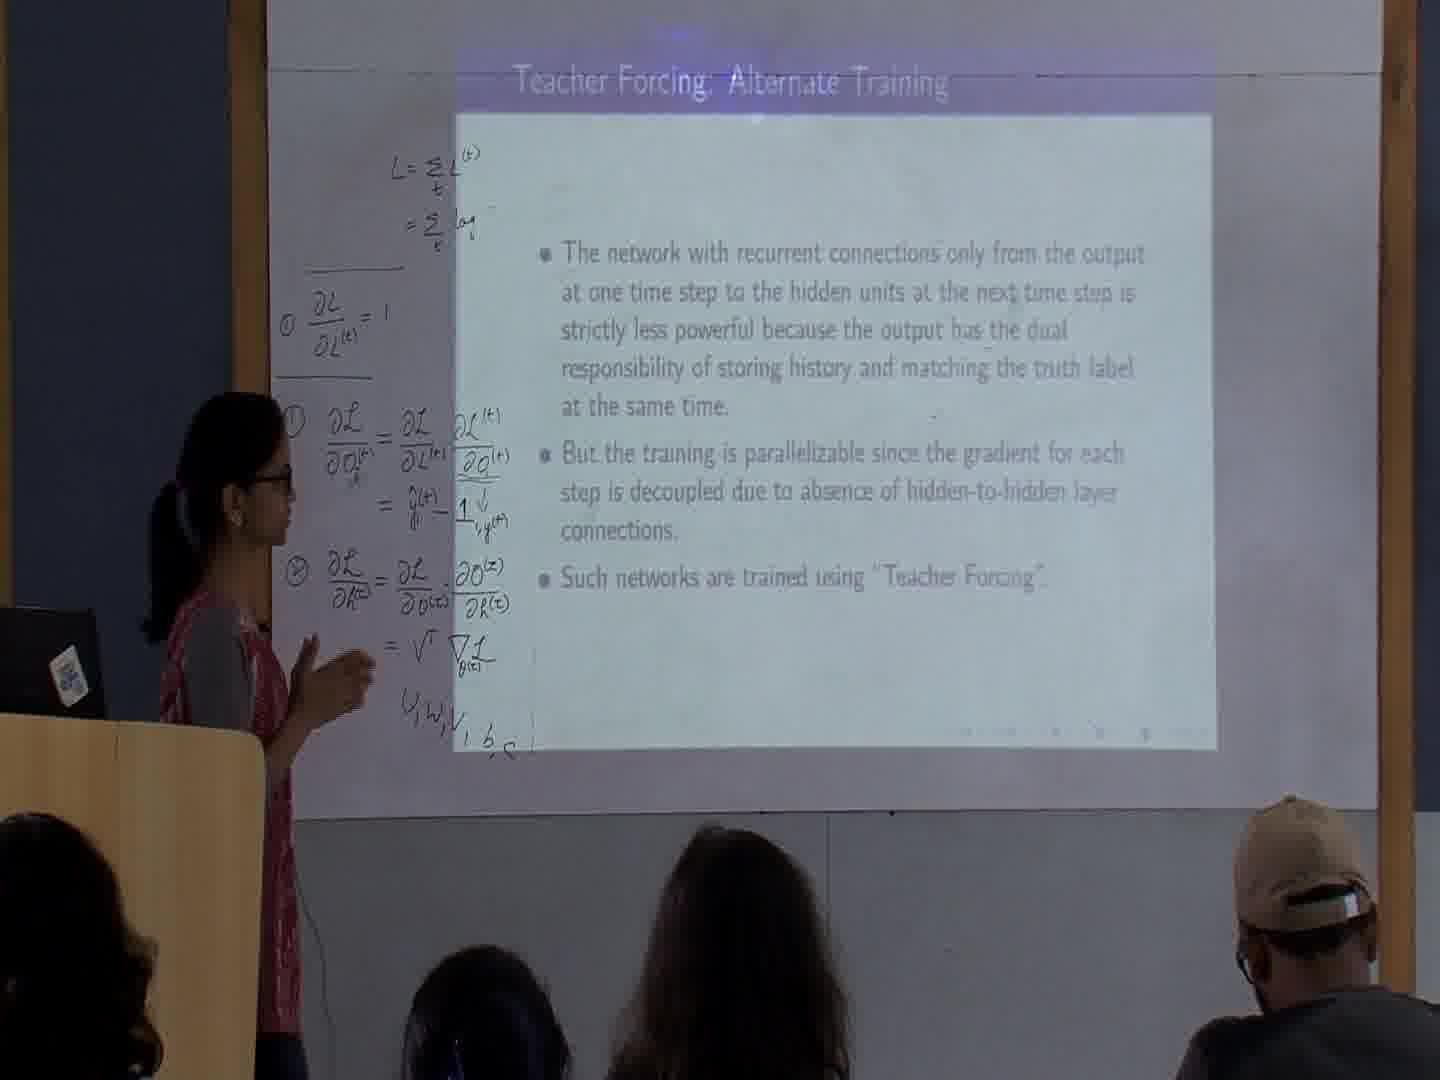slide: (450, 48, 1215, 749)
